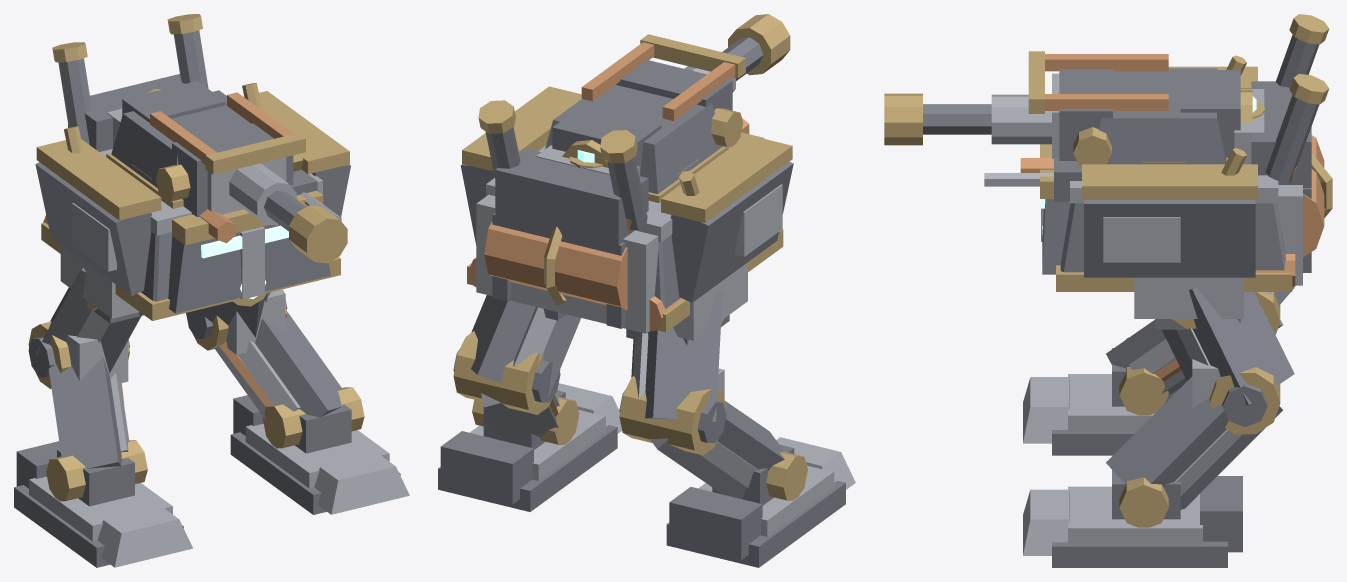
File: gearforge_walker_lod1.glb
3 renders of one model, left to right at view 1: azimuth 30°, elevation 25°; view 2: azimuth 150°, elevation 25°; view 3: azimuth 270°, elevation 25°, orthographic. The views are drawn at different scales.
Parts seen in each view (by area): view 1: gearforge_walker_hull_lod1, gearforge_walker_leg_l_lod1, gearforge_walker_leg_r_lod1, gearforge_walker_turret_lod1; view 2: gearforge_walker_hull_lod1, gearforge_walker_leg_l_lod1, gearforge_walker_leg_r_lod1, gearforge_walker_turret_lod1; view 3: gearforge_walker_hull_lod1, gearforge_walker_leg_r_lod1, gearforge_walker_turret_lod1, gearforge_walker_leg_l_lod1.
Boxes of the visible parts, x1,y1,x2,y2 form: gearforge_walker_hull_lod1: [35, 14, 350, 320]; gearforge_walker_leg_l_lod1: [14, 267, 192, 567]; gearforge_walker_leg_r_lod1: [186, 289, 409, 514]; gearforge_walker_turret_lod1: [106, 81, 347, 263]; gearforge_walker_hull_lod1: [460, 86, 793, 340]; gearforge_walker_leg_l_lod1: [619, 291, 855, 567]; gearforge_walker_leg_r_lod1: [438, 295, 622, 511]; gearforge_walker_turret_lod1: [536, 14, 790, 202]; gearforge_walker_hull_lod1: [1040, 14, 1332, 318]; gearforge_walker_leg_r_lod1: [1023, 287, 1294, 567]; gearforge_walker_turret_lod1: [884, 51, 1264, 201]; gearforge_walker_leg_l_lod1: [1023, 286, 1294, 455].
Bounding box in the file's own units: 3.48 × 4.54 × 4.18.
